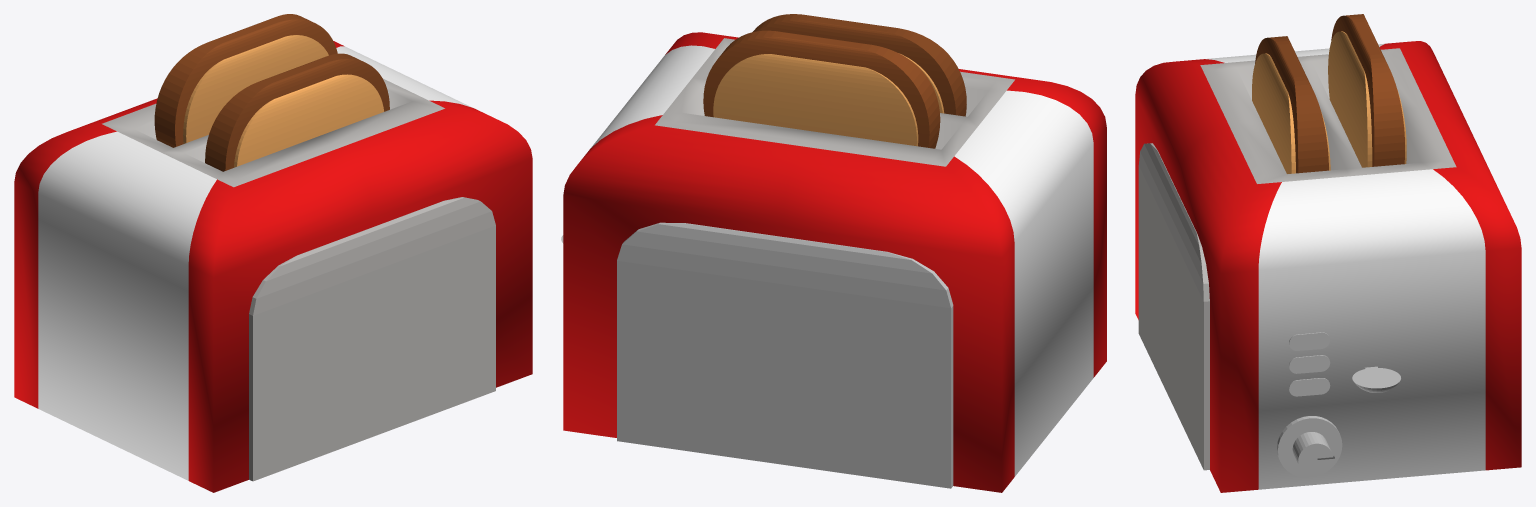
Rendered from Tostadora.fbx.
3 renders of one model, left to right at view 1: azimuth 30°, elevation 25°; view 2: azimuth 150°, elevation 25°; view 3: azimuth 270°, elevation 25°, orthographic. The views are drawn at different scales.
Visible parts, largest first — view 1: Esfera; view 2: Esfera; view 3: Esfera.
Part boxes in pixels (x1=…): Esfera: x1=14, y1=14, x2=532, y2=492; Esfera: x1=561, y1=14, x2=1106, y2=492; Esfera: x1=1135, y1=14, x2=1521, y2=492.
Bounding box in the file's own units: 107 × 81.12 × 81.48.
